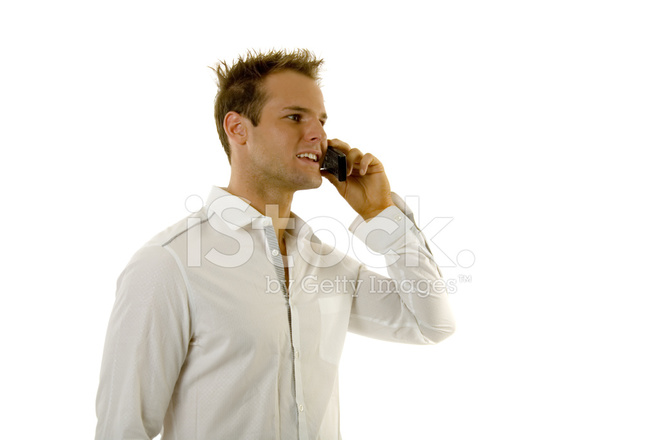phone: (309, 132, 365, 195)
talk: (267, 96, 391, 230)
